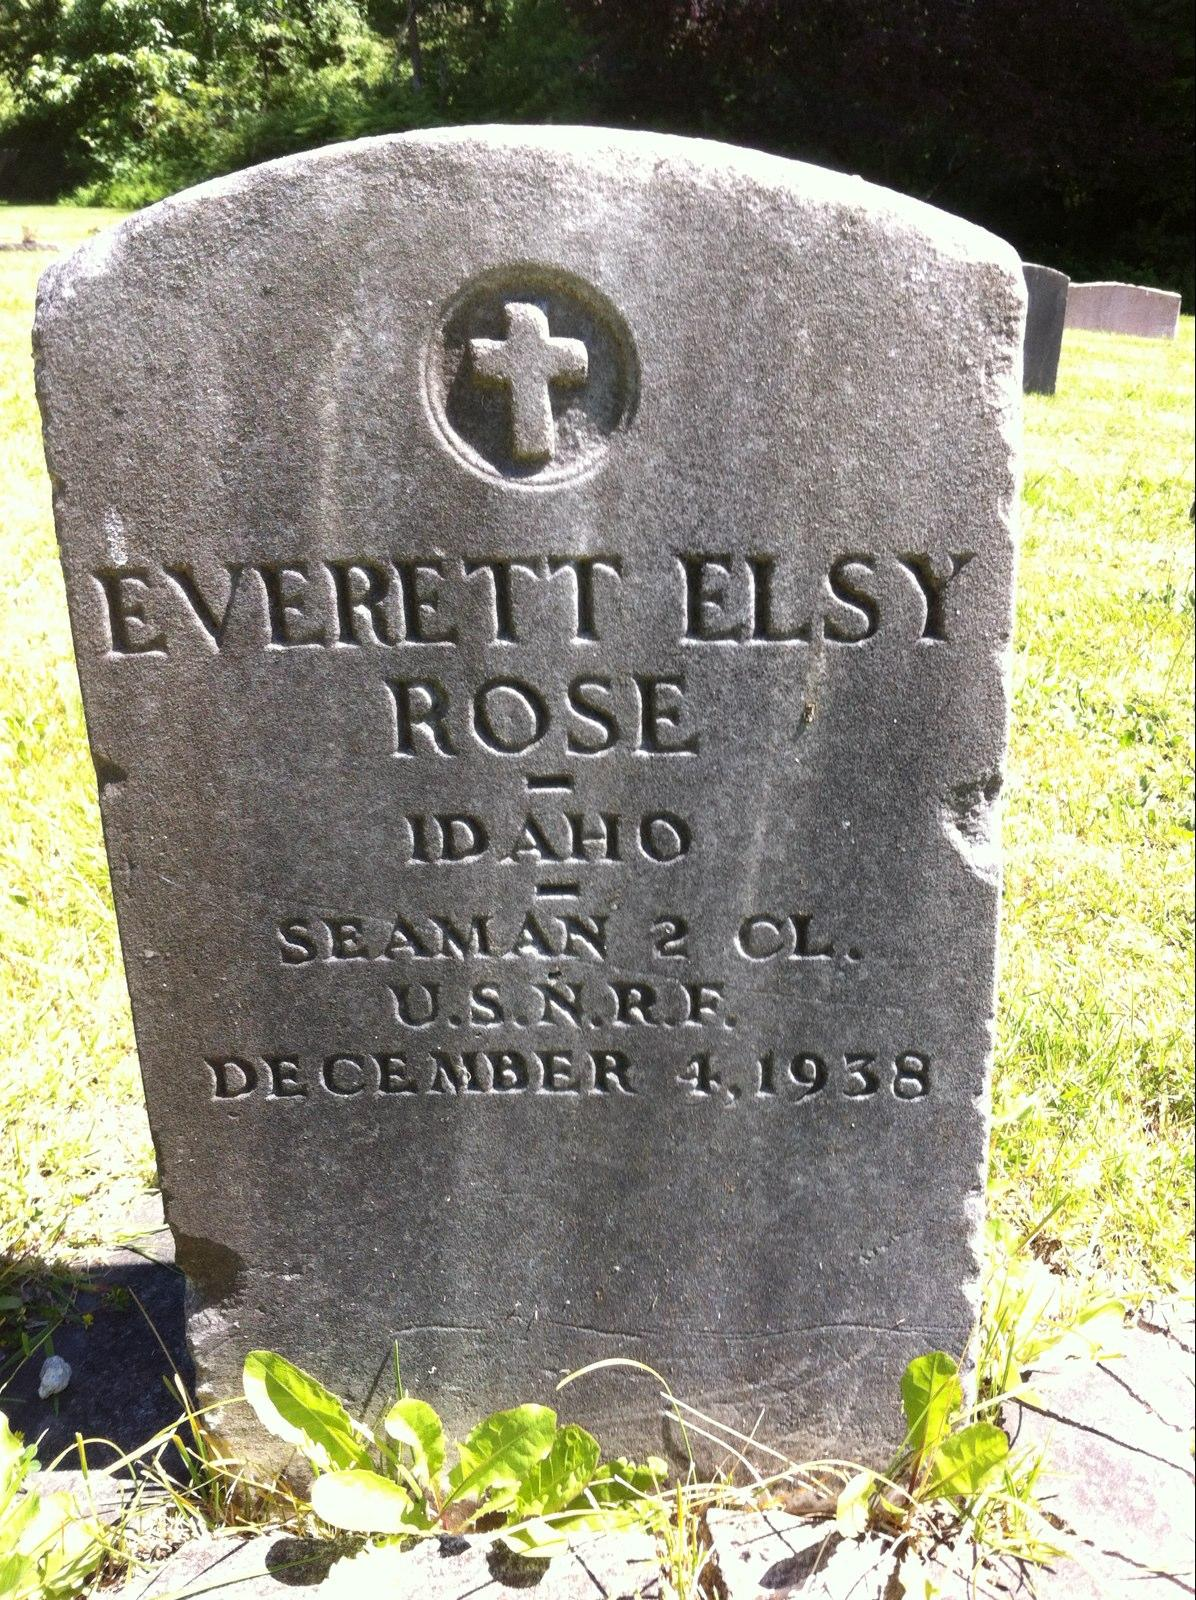upright: (29, 124, 1024, 1497)
